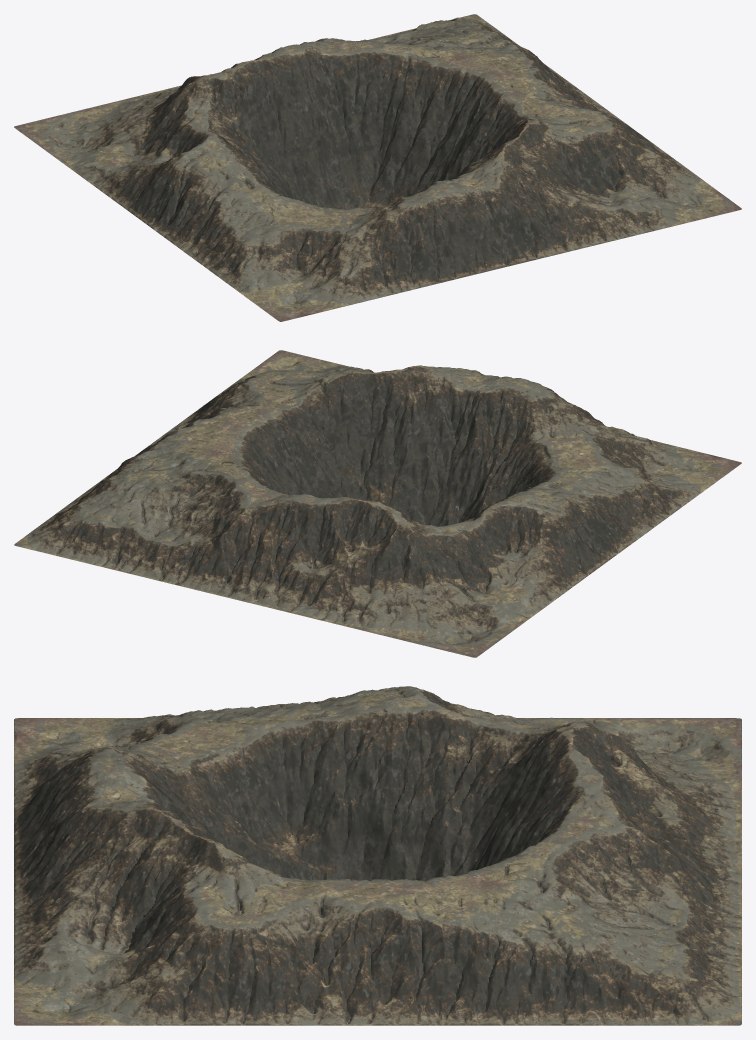
Rendered from volcano_1.glb.
3 renders of one model, top to bottom at view 1: azimuth 30°, elevation 25°; view 2: azimuth 150°, elevation 25°; view 3: azimuth 270°, elevation 25°, orthographic. The views are drawn at different scales.
Parts seen in each view (by area): view 1: Mesh_COLORMAP BAKE_0_4, Mesh_COLORMAP BAKE_0_5, Mesh_COLORMAP BAKE_0_6; view 2: Mesh_COLORMAP BAKE_0_4, Mesh_COLORMAP BAKE_0_5, Mesh_COLORMAP BAKE_0_6; view 3: Mesh_COLORMAP BAKE_0_4, Mesh_COLORMAP BAKE_0_5, Mesh_COLORMAP BAKE_0_6.
Part boxes in pixels (x1=…): Mesh_COLORMAP BAKE_0_4: x1=24, y1=28, x2=741, y2=320; Mesh_COLORMAP BAKE_0_5: x1=14, y1=14, x2=734, y2=318; Mesh_COLORMAP BAKE_0_6: x1=30, y1=18, x2=705, y2=321; Mesh_COLORMAP BAKE_0_4: x1=101, y1=350, x2=740, y2=652; Mesh_COLORMAP BAKE_0_5: x1=14, y1=356, x2=726, y2=657; Mesh_COLORMAP BAKE_0_6: x1=28, y1=368, x2=741, y2=652; Mesh_COLORMAP BAKE_0_4: x1=14, y1=686, x2=741, y2=1025; Mesh_COLORMAP BAKE_0_5: x1=14, y1=686, x2=741, y2=1025; Mesh_COLORMAP BAKE_0_6: x1=14, y1=688, x2=741, y2=1025.
Bounding box in the file's own units: 32.89 × 10.58 × 32.89.
1 material, 1 textured.
